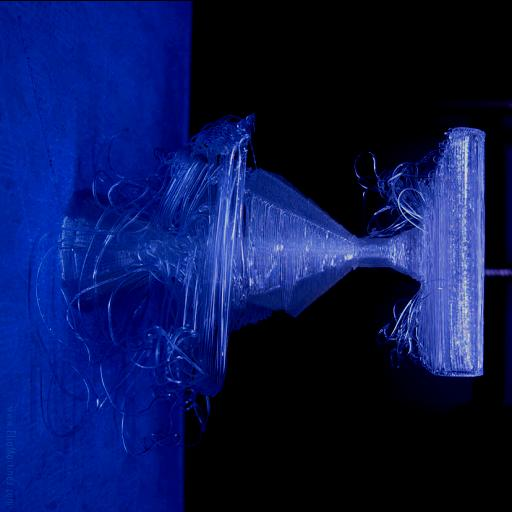spaghetti: (38, 109, 260, 444), (352, 140, 444, 236), (366, 286, 434, 371)
